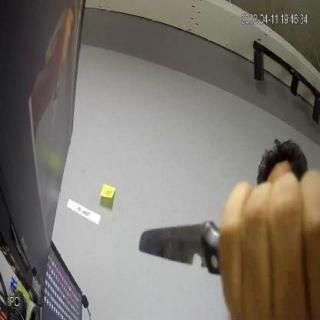knife: (136, 211, 214, 278)
